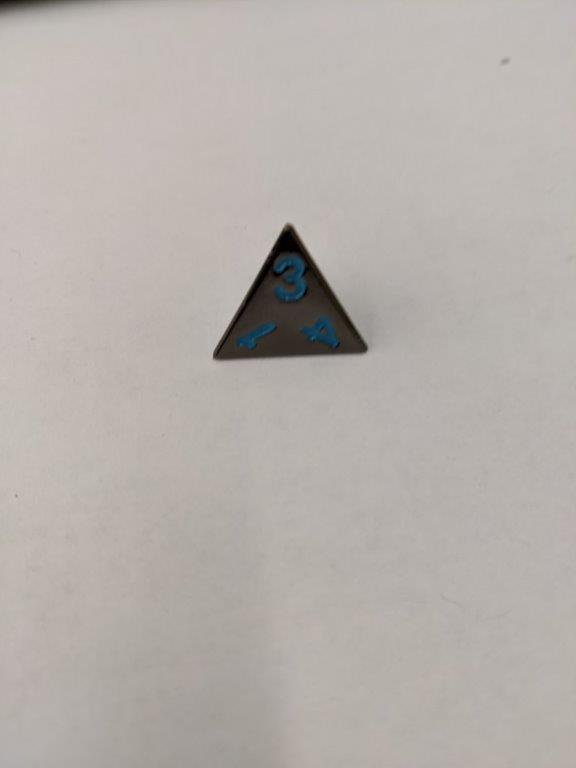d4-3: (212, 220, 369, 363)
